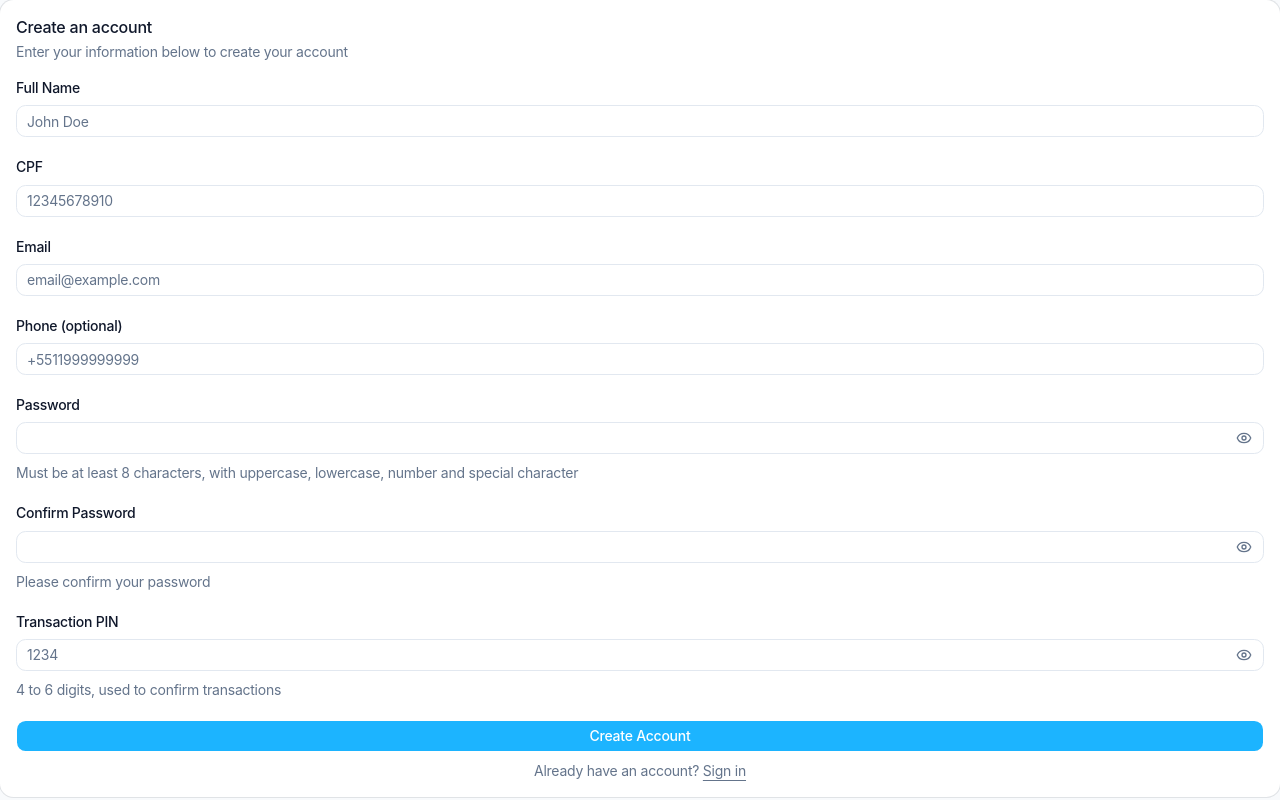
SignupForm › only accepts digits in the CPF field
Type "12a34b5678910" into the field labelled "CPF" at [640, 200], box [16, 184, 1264, 216]
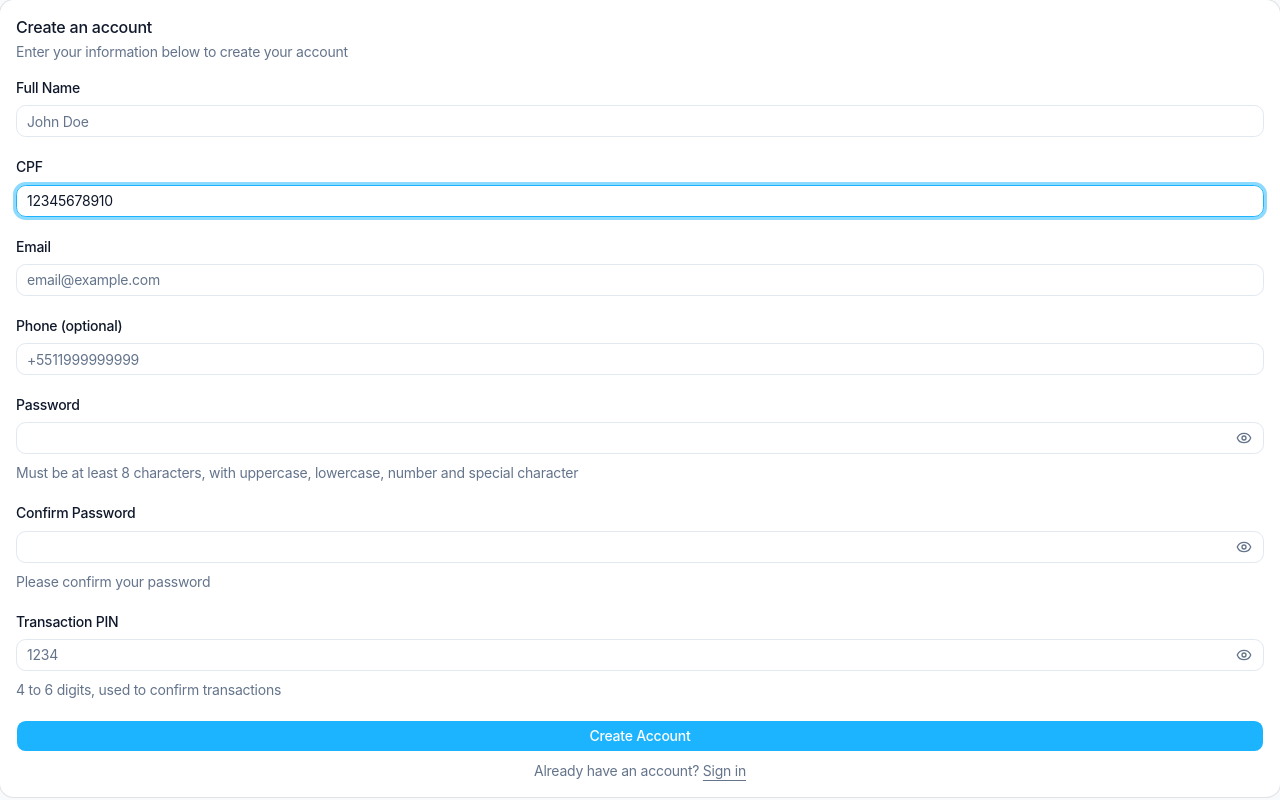
Check: the field labelled "CPF" holds "12345678910", box [16, 184, 1264, 216]
